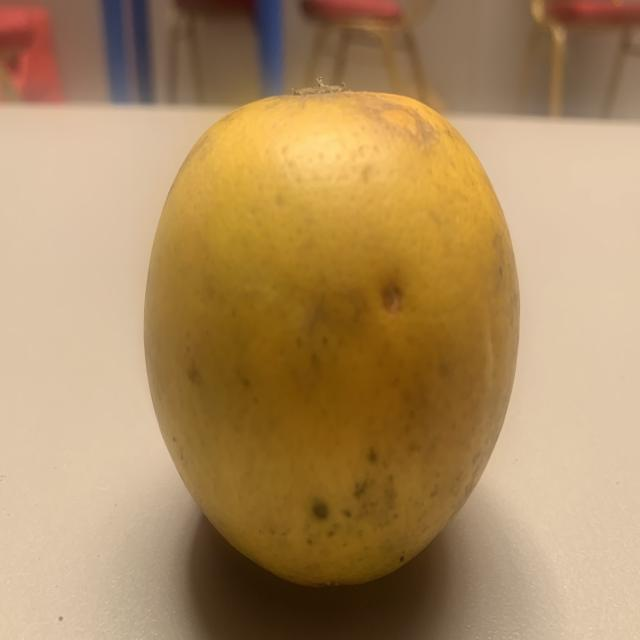Ripe orange: (133, 74, 548, 593)
